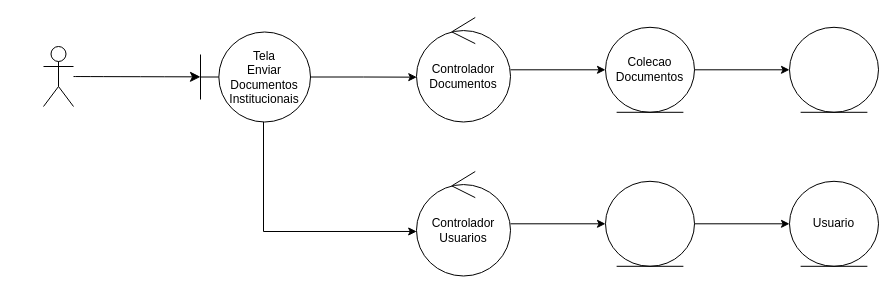
Image size: 896x294. Some labels were removed from this diagram. The shapes that lost their labels are listed below. From the top down, each one's centre as x and y in pixels, then its label:
(x=58, y=76): Professor CoordMonitoria CoordEstagio
(x=833, y=69): Documento
(x=649, y=223): Colecao Usuarios
